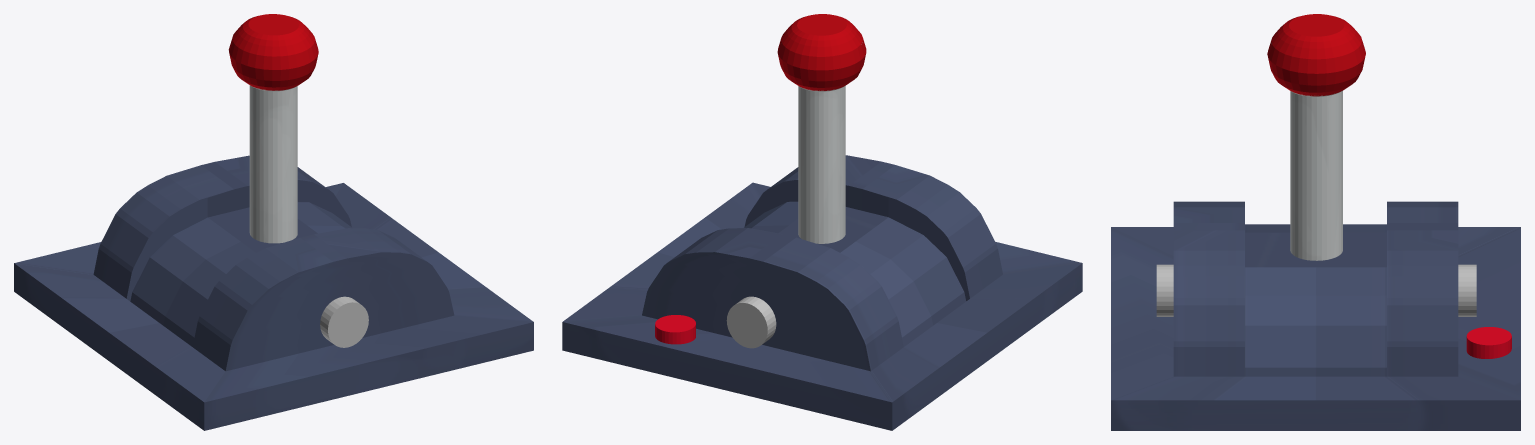
Rendered from lever.fbx.
3 views of the same model, side by side, from view 1: azimuth 30°, elevation 25°; view 2: azimuth 150°, elevation 25°; view 3: azimuth 270°, elevation 25° (orthographic). The views are drawn at different scales.
Visible parts, largest first — view 1: LeverBase, Lever, LeverScrew; view 2: LeverBase, Lever, LeverScrew, Button; view 3: LeverBase, Lever, LeverScrew, Button.
Boxes of the visible parts, left/top/right/bottom form: LeverBase: left=14, top=155, right=533, bottom=430; Lever: left=228, top=14, right=318, bottom=243; LeverScrew: left=320, top=296, right=368, bottom=347; LeverBase: left=562, top=155, right=1082, bottom=430; Lever: left=777, top=14, right=866, bottom=243; LeverScrew: left=726, top=296, right=776, bottom=348; Button: left=655, top=315, right=695, bottom=344; LeverBase: left=1111, top=201, right=1520, bottom=430; Lever: left=1267, top=14, right=1365, bottom=260; LeverScrew: left=1156, top=264, right=1476, bottom=316; Button: left=1466, top=327, right=1511, bottom=358.
Size of the model in its own units: 314 by 270 by 314.
Materials: 4 (4 with a texture image).
